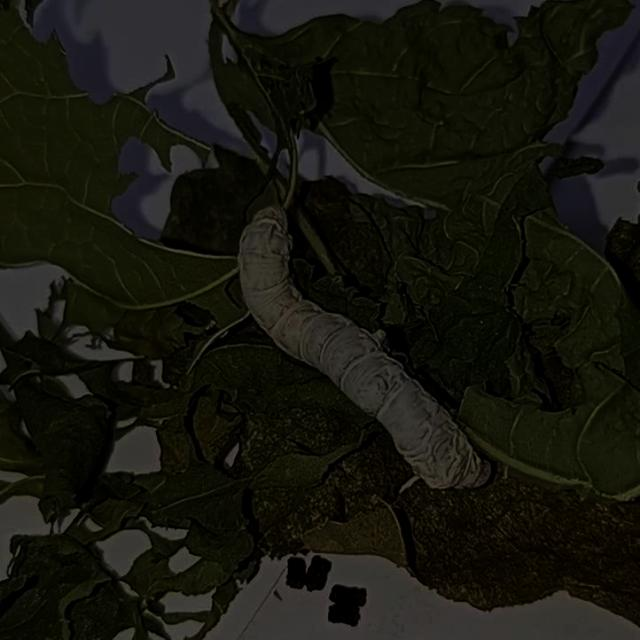Healthy: (200, 170, 504, 519)
